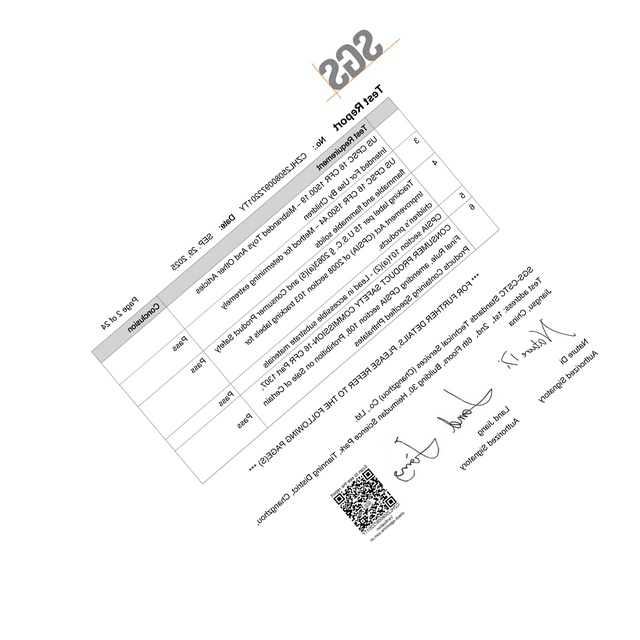sgs: (319, 29, 384, 90)
